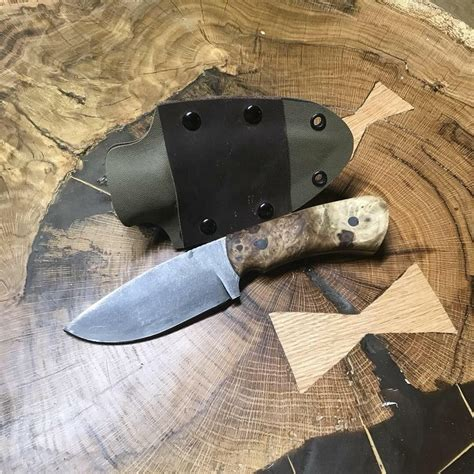knife: (65, 194, 393, 346)
